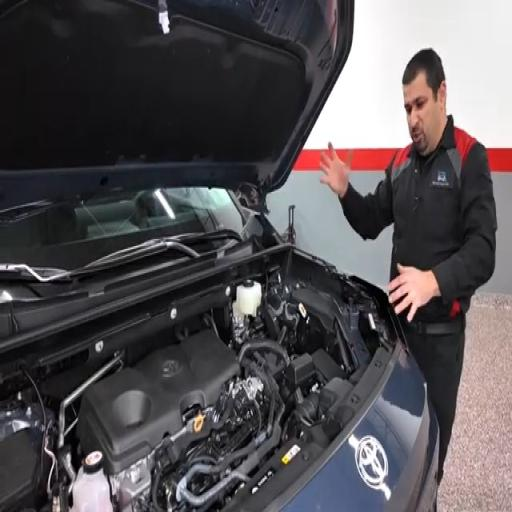bumper: (284, 350, 438, 511)
emblem: (356, 436, 387, 489), (163, 360, 179, 378)
hood: (0, 0, 354, 209)
window: (0, 188, 244, 268)
windshield: (0, 188, 243, 270)
